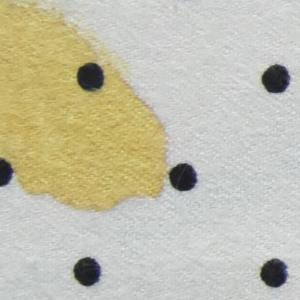Oil Stain: (1, 1, 172, 215)
